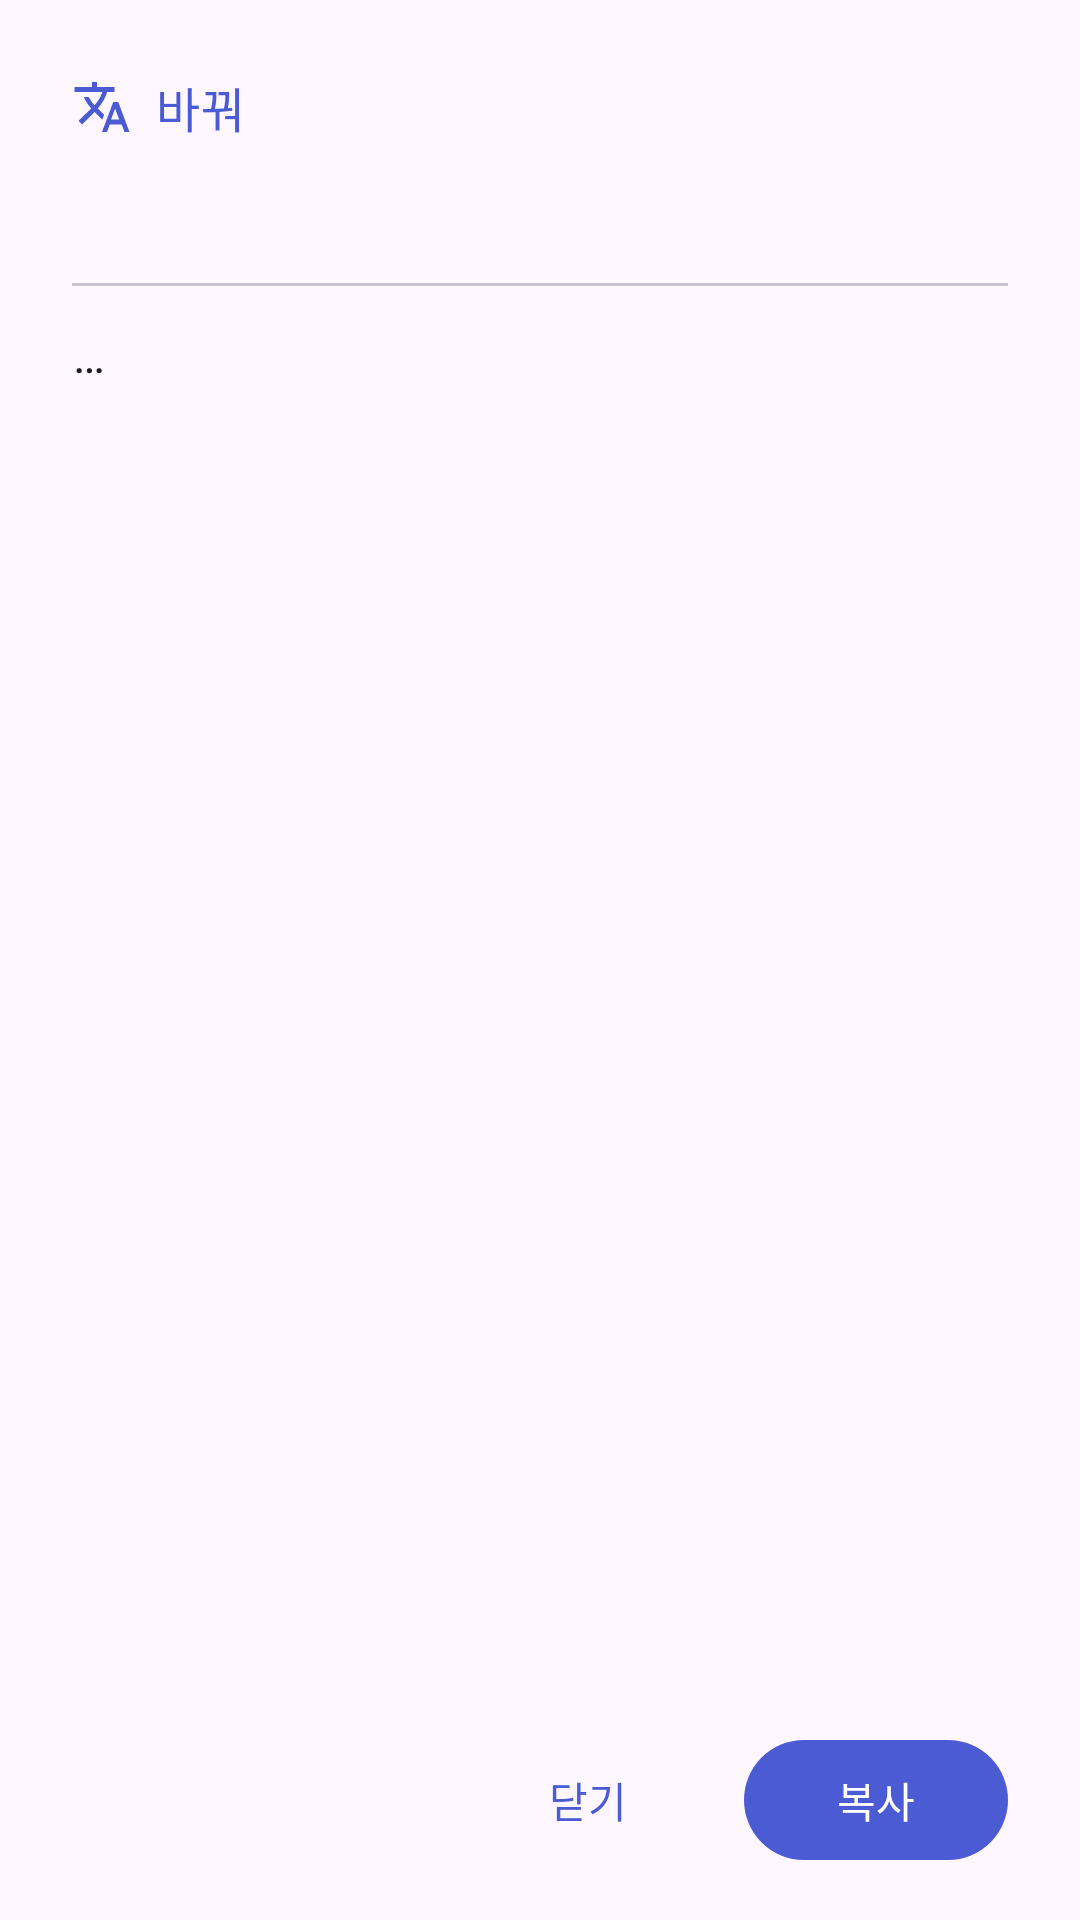

Screen size 1080×1920. Icon name, then its box in pixels as bbox=[x1, y1, x2, y2]:
translate: bbox=[74, 82, 130, 132]
